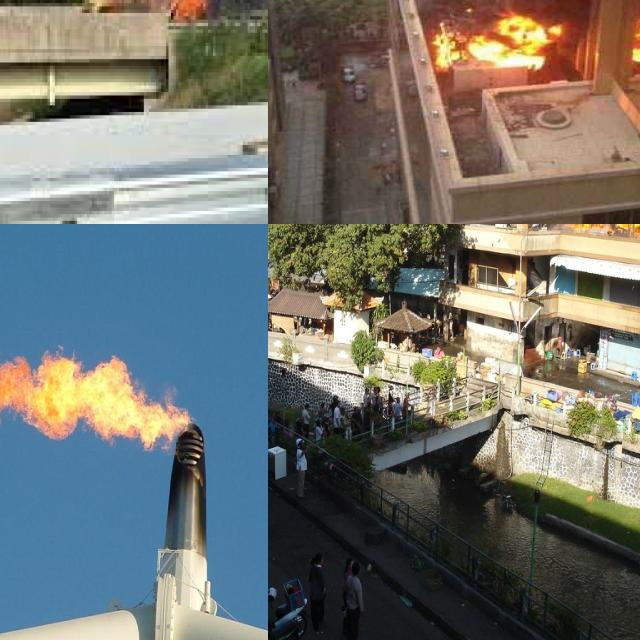fire: (0, 337, 203, 476), (426, 11, 551, 74), (99, 0, 240, 22), (562, 224, 640, 246), (626, 13, 640, 67)
